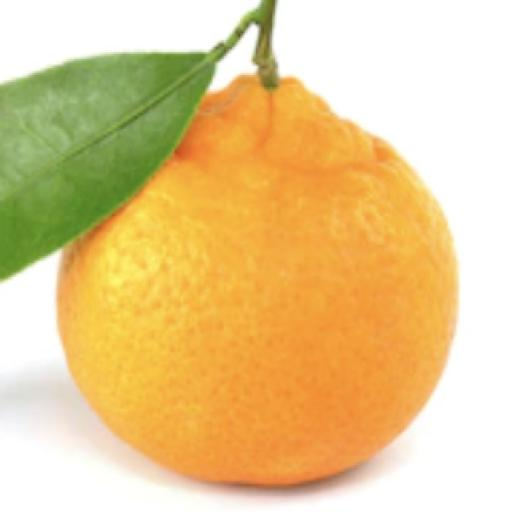orange: (59, 77, 457, 485)
